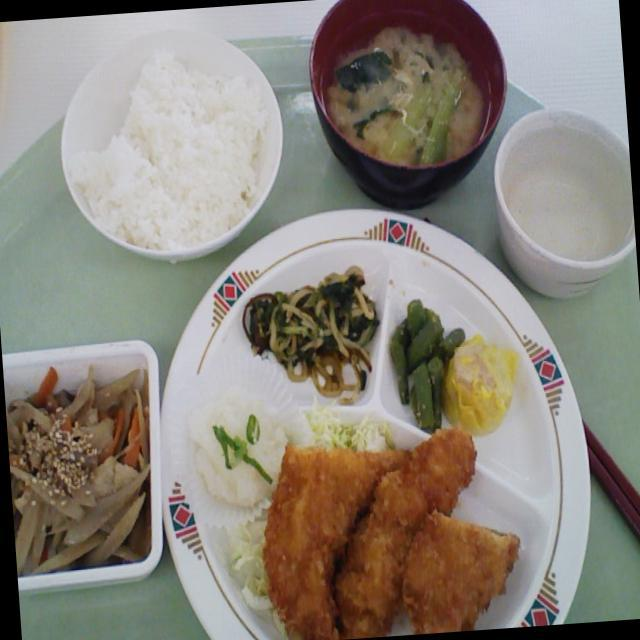Rice: (63, 37, 285, 257)
